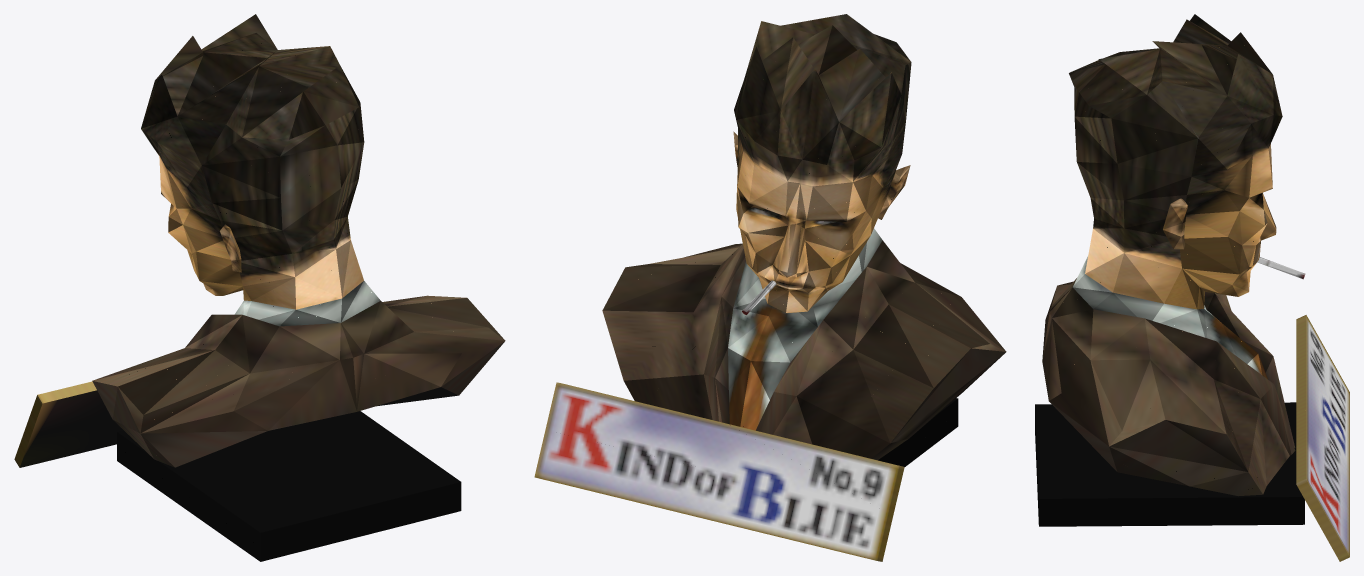
The model's file is aaa.ico.obj.
3 renders of one model, left to right at view 1: azimuth 30°, elevation 25°; view 2: azimuth 150°, elevation 25°; view 3: azimuth 270°, elevation 25°, orthographic. The views are drawn at different scales.
Size of the model in its own units: 3.6 by 4.18 by 2.78.
1 material, 1 textured.
